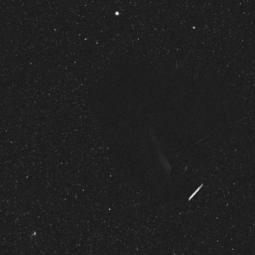cheops: (98, 49, 218, 200)
